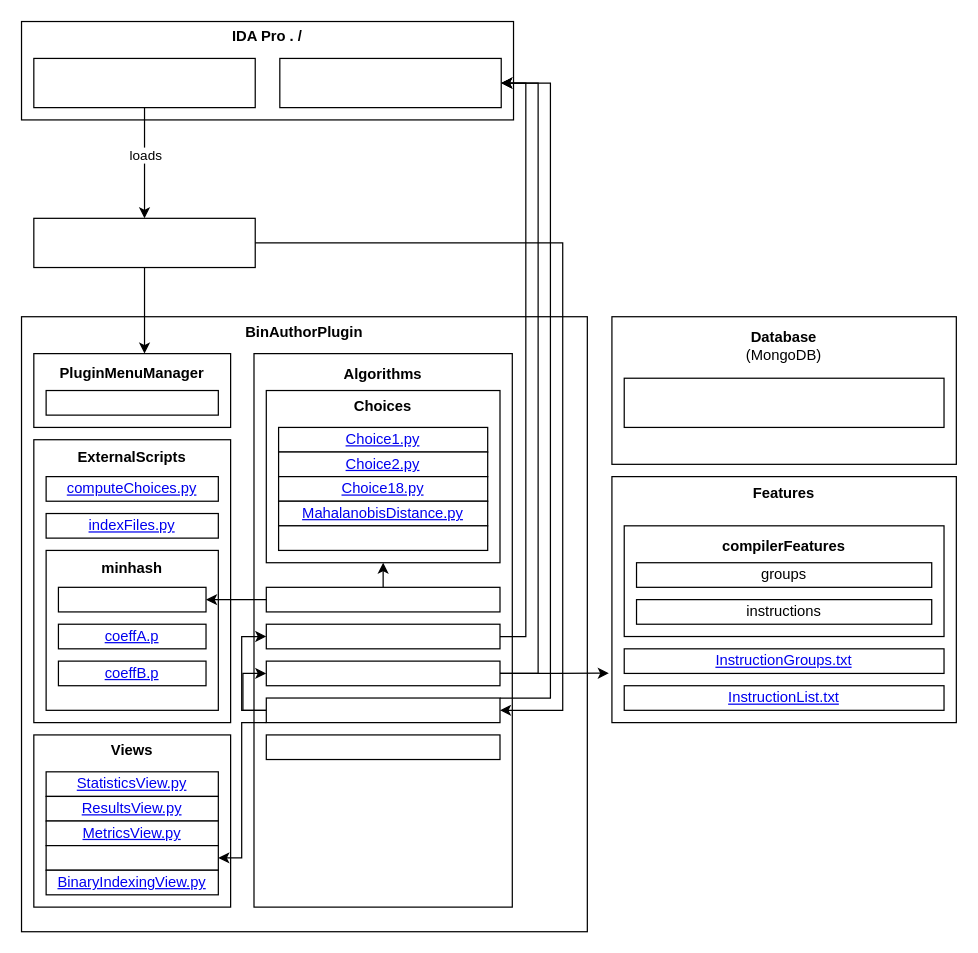
This 978x953 diagram has some shape labels left out. Each missing label, with the centre of its shape:
"./plugins/ BinAuthor_importer.py" belongs at pixel 144 82.
"./python/ pluginConfigurations.py" belongs at pixel 390 82.
"AuthorClassification.py" belongs at pixel 382 599.
"BinAuthor.py" belongs at pixel 144 242.
"BinAuthorManager.py" belongs at pixel 131 402.
"CategorizeFunction.py" belongs at pixel 382 636.
"Data" belongs at pixel 783 402.
"FunctionFeatureExtractor.py" belongs at pixel 382 673.
"FunctionFilterView.py" belongs at pixel 131 857.
"FunctionFliterAndColorizer.py" belongs at pixel 382 710.
"FunctionStatistics.py" belongs at pixel 382 747.
"minhash.py" belongs at pixel 131 599.
"Strings.py" belongs at pixel 382 537.
